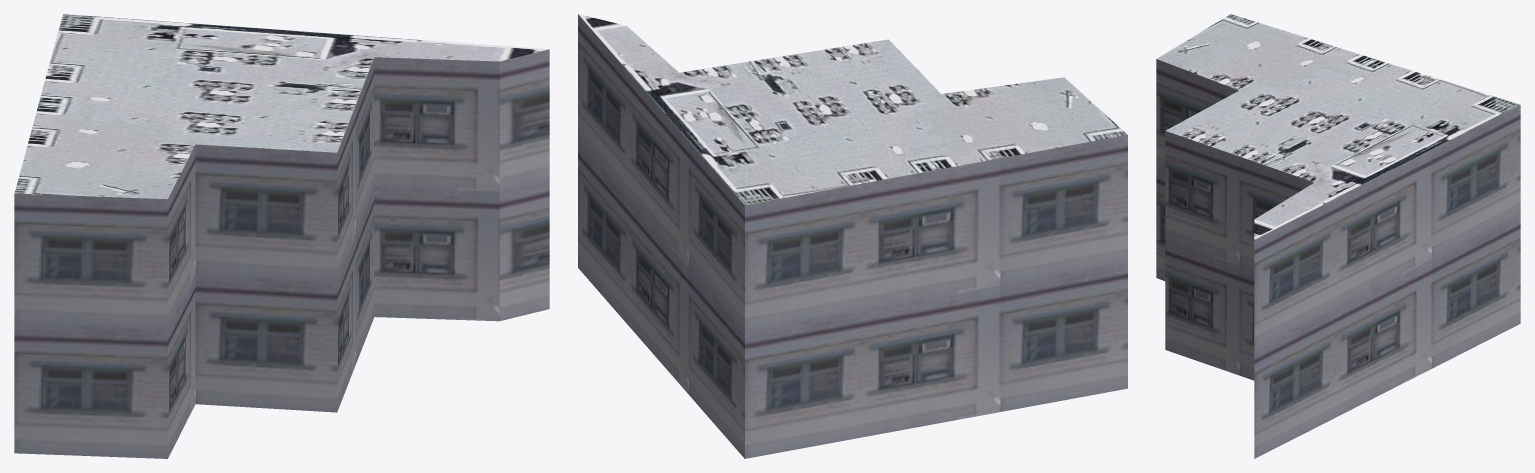
Rendered from ResTex__3605.fbx.
3 views of the same model, side by side, from view 1: azimuth 30°, elevation 25°; view 2: azimuth 150°, elevation 25°; view 3: azimuth 270°, elevation 25° (orthographic). The views are drawn at different scales.
Parts seen in each view (by area): view 1: CityEngineMaterial_1_m, CityEngineMaterial_4_m; view 2: CityEngineMaterial_1_m, CityEngineMaterial_4_m; view 3: CityEngineMaterial_1_m, CityEngineMaterial_4_m.
Part boxes in pixels (box(x1,y1,x2,y2)): CityEngineMaterial_1_m: box(14, 49, 549, 458); CityEngineMaterial_4_m: box(14, 14, 548, 199); CityEngineMaterial_1_m: box(578, 14, 1127, 458); CityEngineMaterial_4_m: box(578, 14, 1127, 204); CityEngineMaterial_1_m: box(1156, 59, 1520, 458); CityEngineMaterial_4_m: box(1157, 14, 1519, 239).
Bounding box in the file's own units: 13.27 × 6 × 9.04.
Materials: 2 (2 with a texture image).
